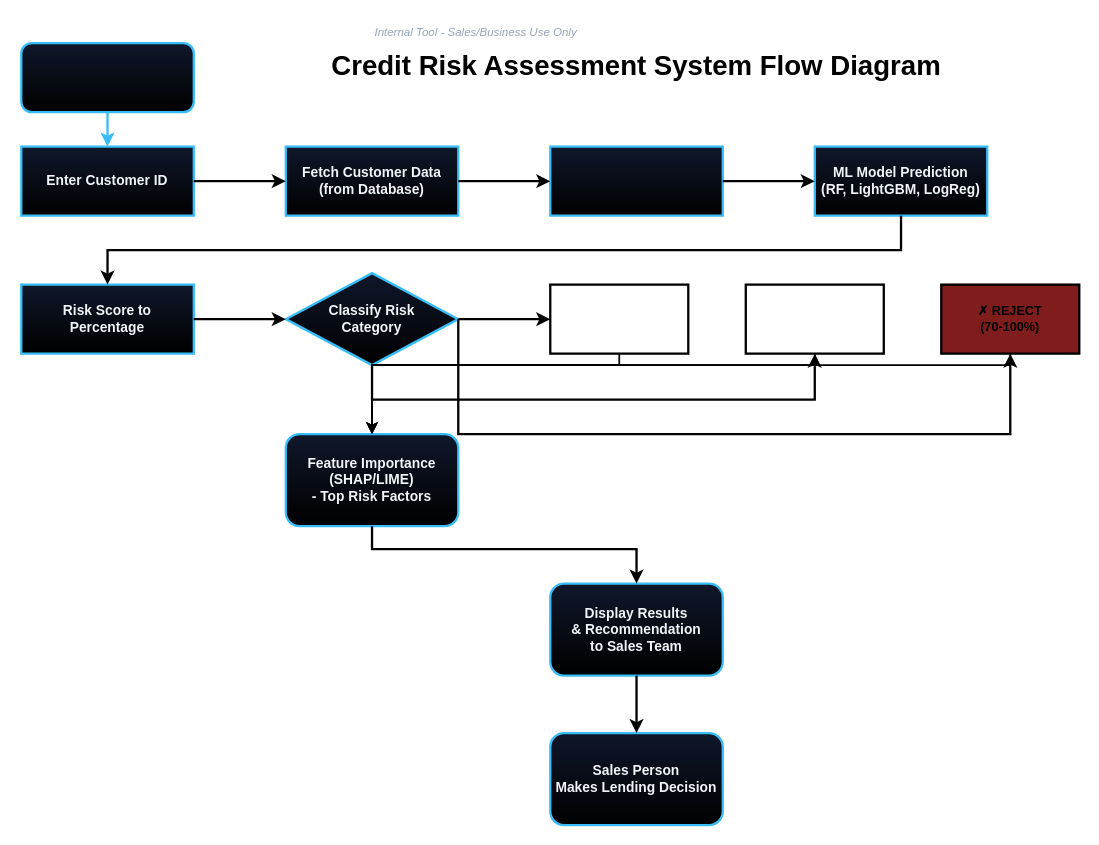
Some shapes in this 1099 by 845 pixel diagram are drawn without their labels. Each missing label, with the centre of its shape:
Data Preprocessing & Feature Engineering: the point at 636,180
Sales Person Interface: the point at 107,77
⚠ REVIEW (30-70%): the point at 814,318
✓ APPROVE (0-30%): the point at 619,318
